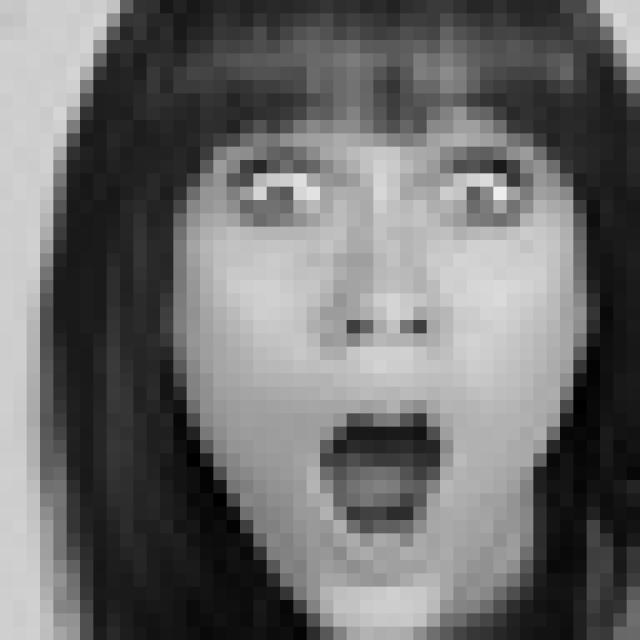surprise: (205, 127, 552, 581)
